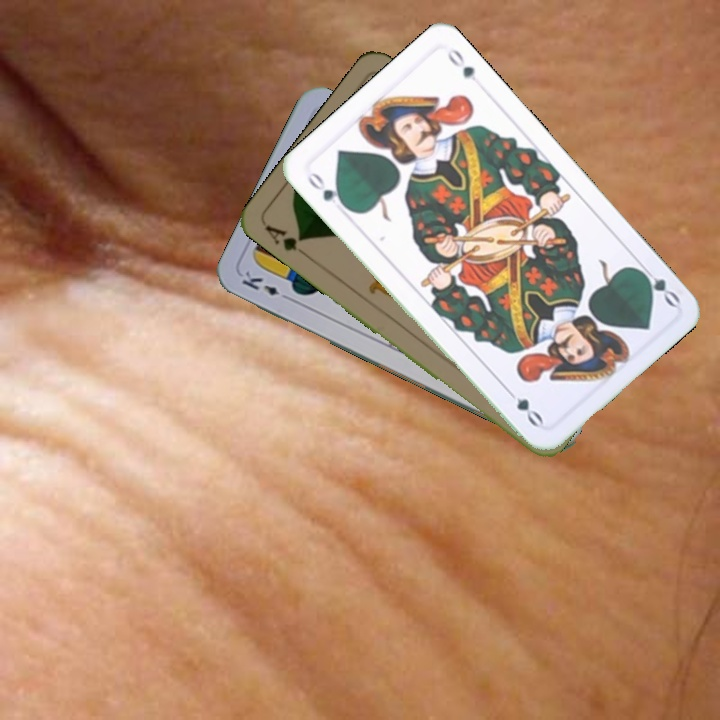EK: (238, 267, 294, 304)
GA: (261, 221, 313, 261)
GO: (632, 260, 683, 310), (303, 167, 351, 212)
